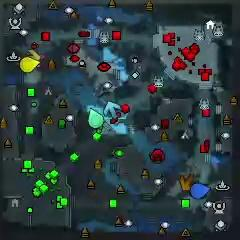p1: (190, 182, 210, 199)
p2: (89, 108, 104, 127)
p4: (20, 56, 40, 72)
x2: (27, 49, 40, 61)
x3: (104, 102, 120, 119)
x5: (180, 174, 194, 192)
